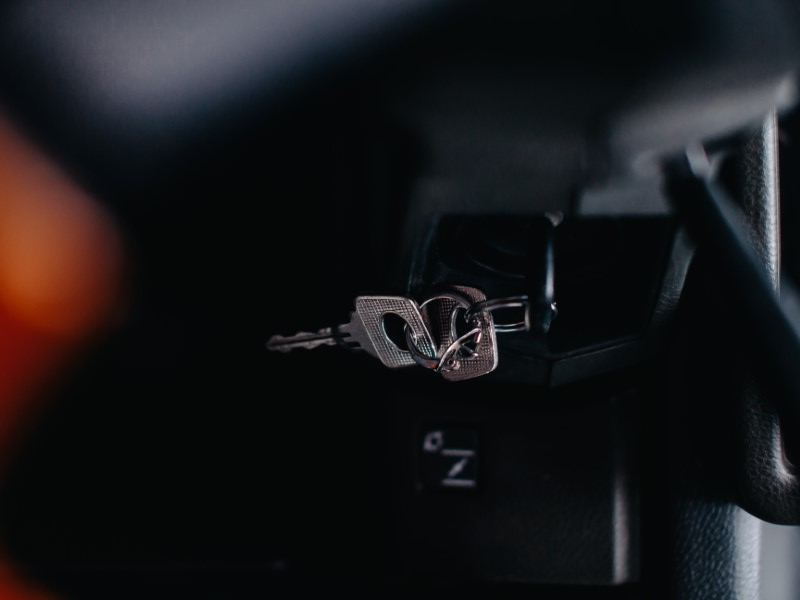key: (264, 288, 434, 378)
